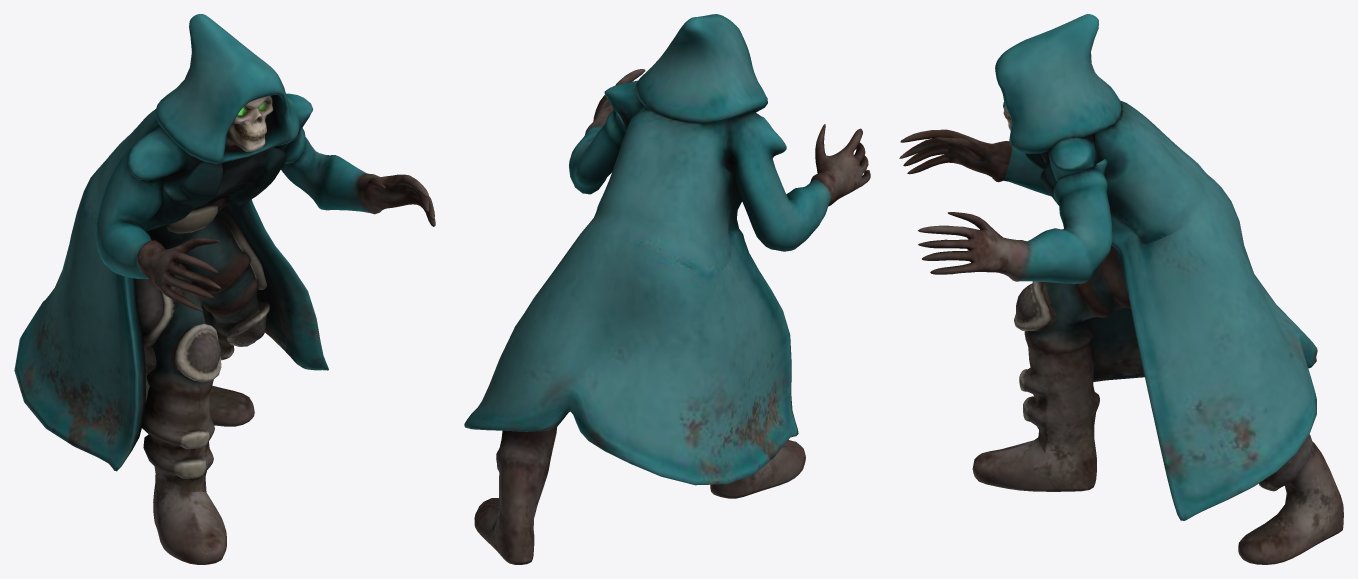
The model's file is MZ4250 - Deathlock Wight.glb.
The picture shows the model from 3 angles, left to right: view 1: azimuth 30°, elevation 25°; view 2: azimuth 150°, elevation 25°; view 3: azimuth 270°, elevation 25°; orthographic projection. The views are drawn at different scales.
Visible parts, largest first — view 1: Body.001; view 2: Body.001; view 3: Body.001.
Boxes of the visible parts, bbox=[...] form: Body.001: bbox=[14, 14, 435, 564]; Body.001: bbox=[464, 14, 870, 564]; Body.001: bbox=[899, 14, 1343, 564].
Size of the model in its own units: 0.4547 by 0.7563 by 0.6288.
1 material, 1 textured.
